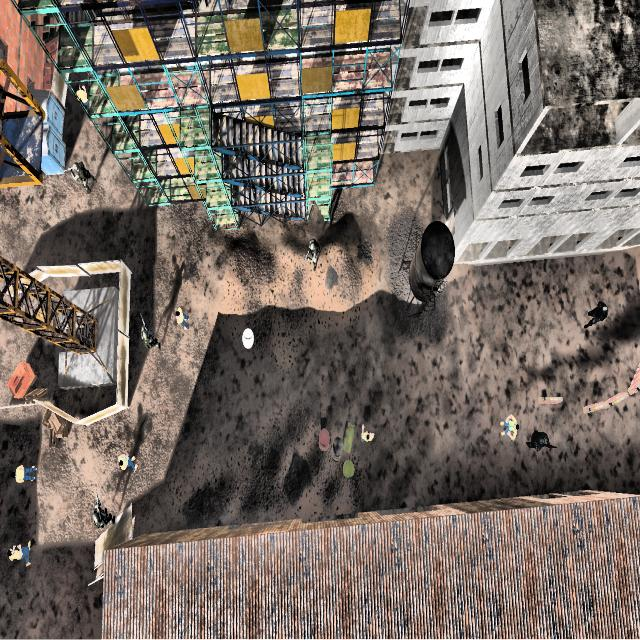bad: (578, 290, 613, 338), (88, 492, 118, 534), (68, 155, 94, 201), (134, 315, 162, 357), (526, 423, 554, 459), (304, 233, 324, 270)
good: (4, 526, 41, 578), (167, 289, 195, 340), (6, 456, 38, 497), (110, 442, 142, 477), (74, 80, 94, 127), (494, 412, 518, 450), (356, 420, 380, 453)
